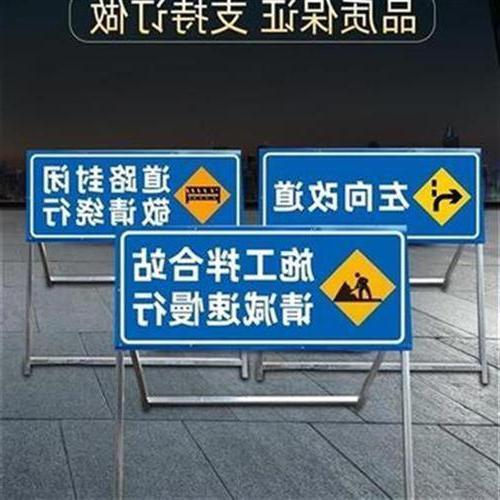sign: (117, 229, 408, 351), (261, 150, 483, 241), (28, 150, 240, 240)
